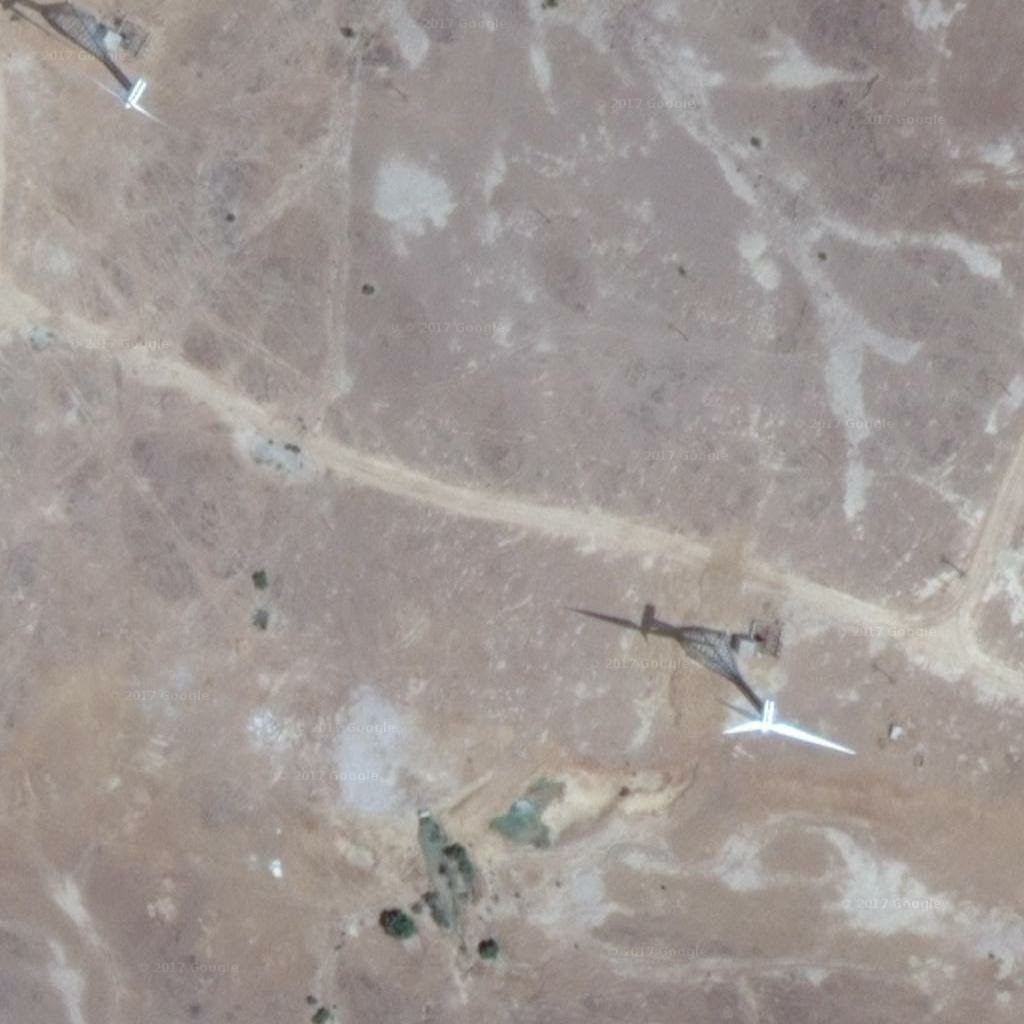Windmill: (558, 589, 775, 713)
